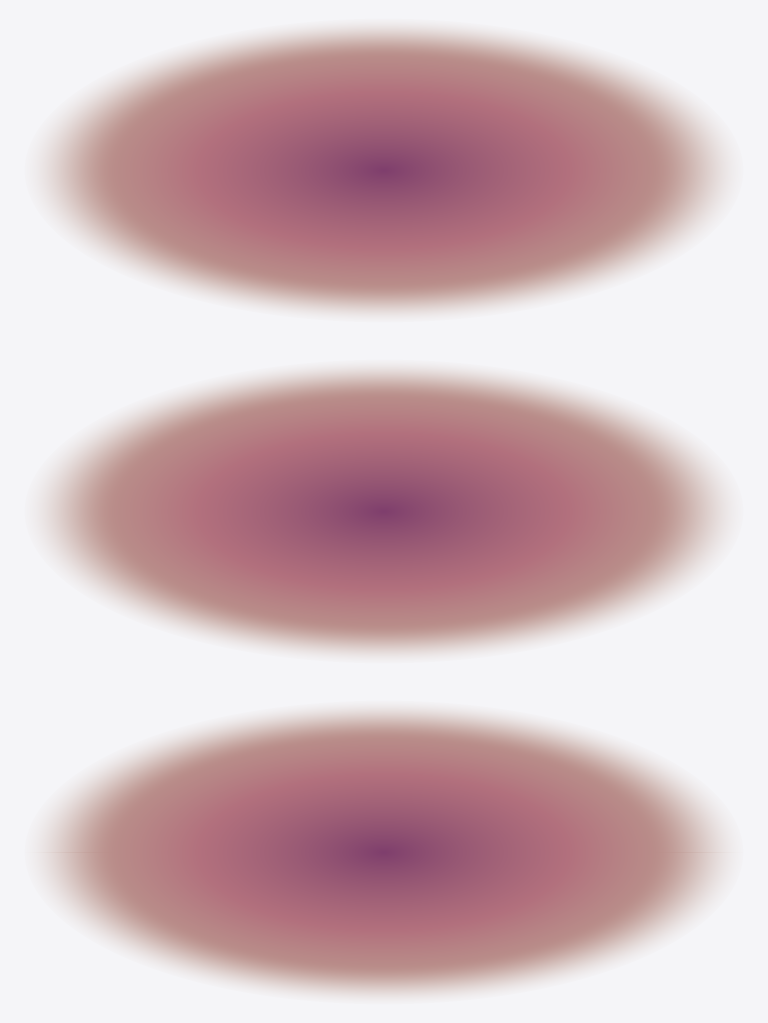
The model's file is piso_bordes_abajo.glb.
3 views of the same model, one above another, from view 1: azimuth 30°, elevation 25°; view 2: azimuth 150°, elevation 25°; view 3: azimuth 270°, elevation 25° (orthographic).
Parts seen in each view (by area): view 1: piso_curvo; view 2: piso_curvo; view 3: piso_curvo.
Part boxes in pixels (bbox=[...]): piso_curvo: bbox=[39, 25, 728, 315]; piso_curvo: bbox=[39, 366, 728, 656]; piso_curvo: bbox=[36, 707, 731, 997].
Size of the model in its own units: 300 by 0 by 300.
